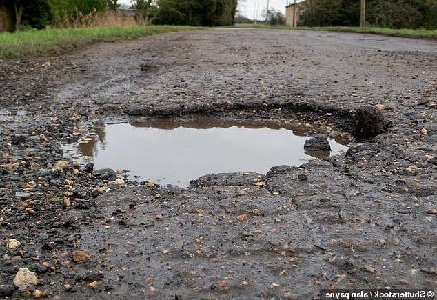pothole: (41, 97, 391, 192)
